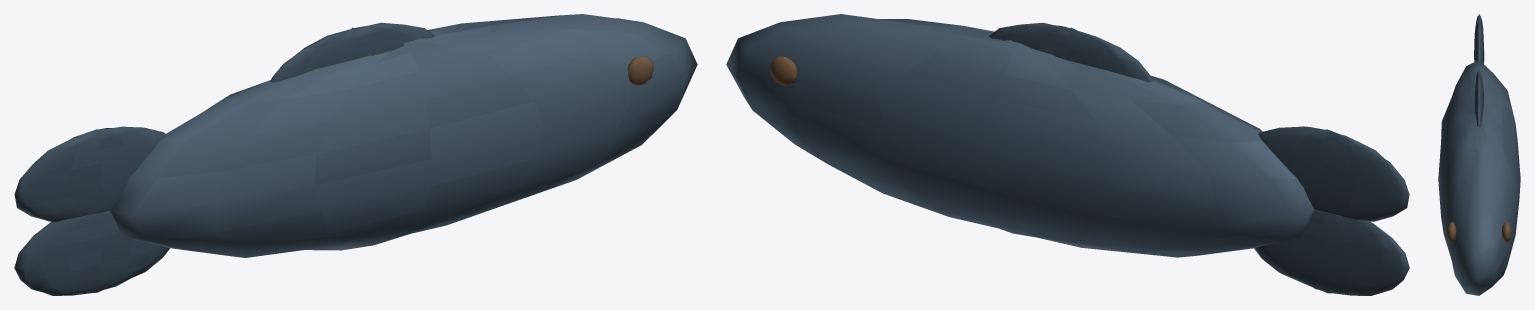
File: Tuna.glb
3 views of the same model, side by side, from view 1: azimuth 30°, elevation 25°; view 2: azimuth 150°, elevation 25°; view 3: azimuth 270°, elevation 25° (orthographic). The views are drawn at different scales.
Visible parts, largest first — view 1: Tuna; view 2: Tuna; view 3: Tuna.
Boxes of the visible parts, <box> form: Tuna: <box>14,14,697,295</box>; Tuna: <box>726,14,1409,295</box>; Tuna: <box>1438,14,1520,295</box>.
Size of what is drawn, in the model's own units: 0.31 by 0.095 by 0.048.
